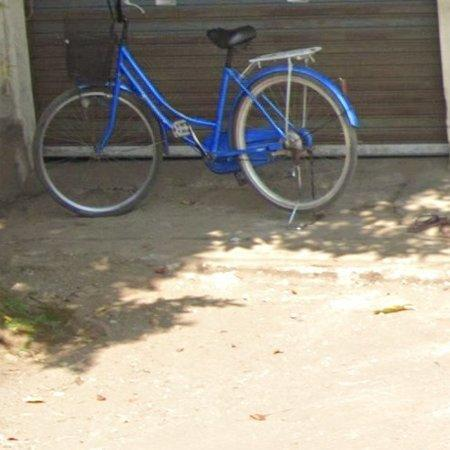bicycles: (34, 0, 360, 216)
